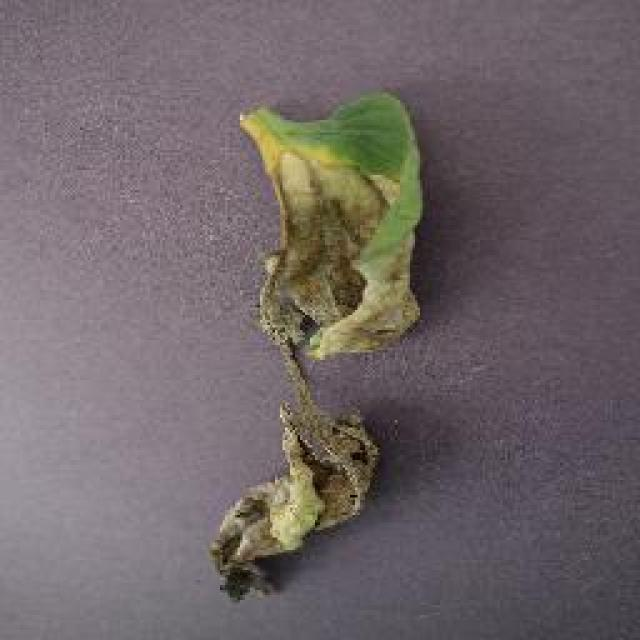Tomato___Late_blight: (200, 91, 427, 602)
